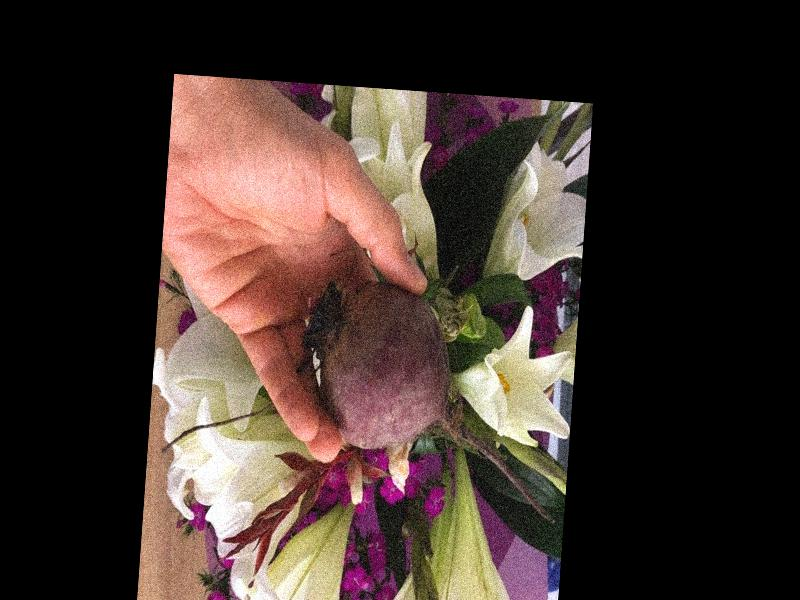Beet: (292, 277, 568, 524)
